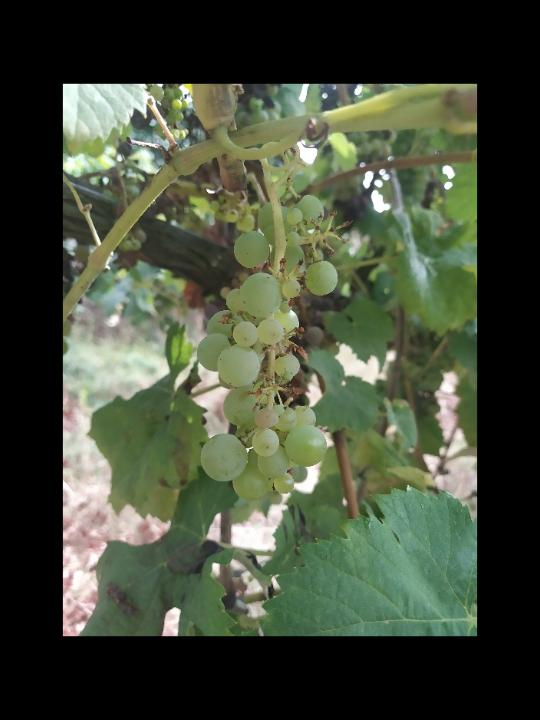grape: (194, 193, 340, 506)
